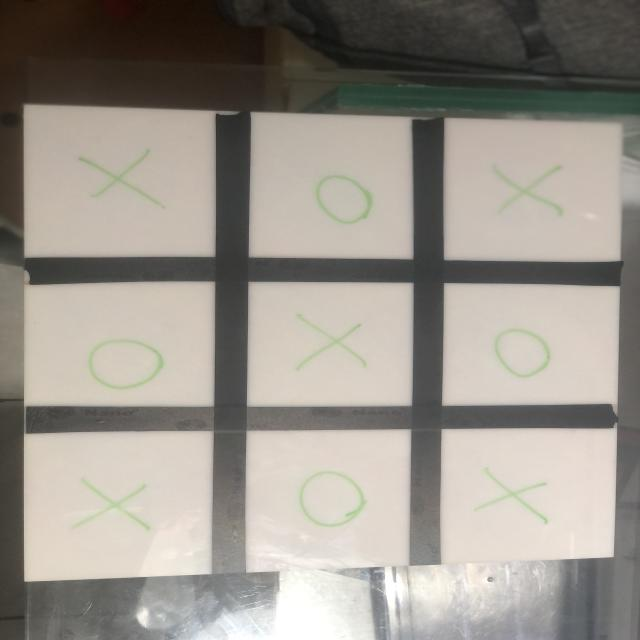o: (291, 471, 375, 532), (80, 338, 170, 393), (306, 172, 383, 228), (490, 324, 554, 387)
table: (17, 105, 623, 598)
x: (77, 142, 173, 207), (69, 469, 159, 538), (290, 307, 368, 374), (476, 468, 553, 529), (494, 165, 573, 218)
